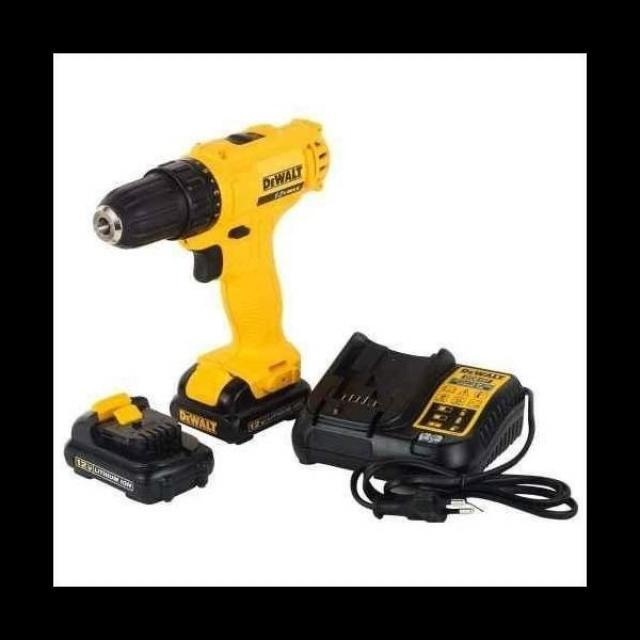drill: (92, 118, 330, 444)
